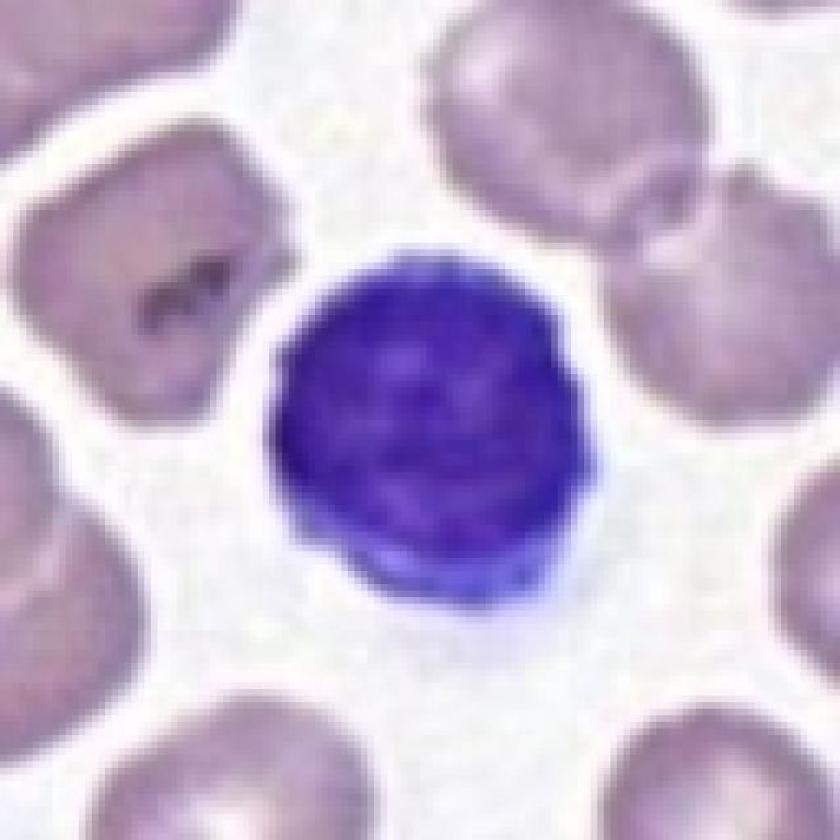lymphocyte: (250, 231, 614, 622)
